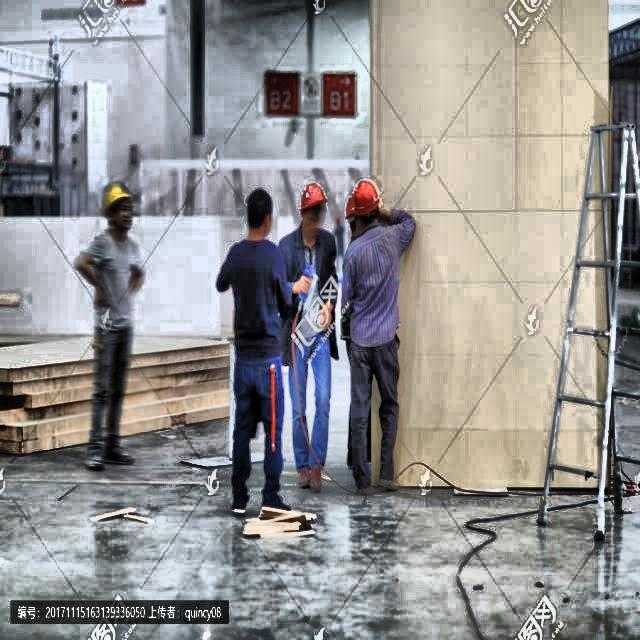person: (222, 186, 294, 536), (342, 173, 415, 498), (75, 181, 154, 481), (280, 178, 351, 496)
